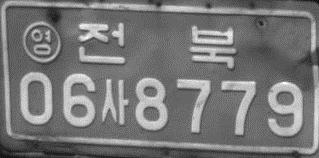0: (18, 69, 54, 128)
6: (61, 73, 96, 128)
7: (175, 78, 211, 134), (220, 80, 256, 136)
8: (133, 76, 168, 131)
9: (266, 80, 304, 138)
사: (101, 78, 128, 127)
영: (21, 20, 61, 65)
전북_D: (76, 22, 237, 70)
